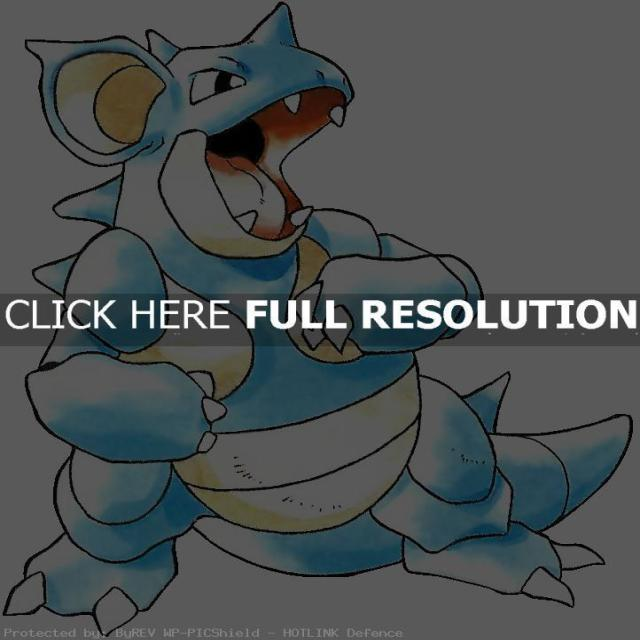Nidoqueen: (15, 16, 559, 608)
